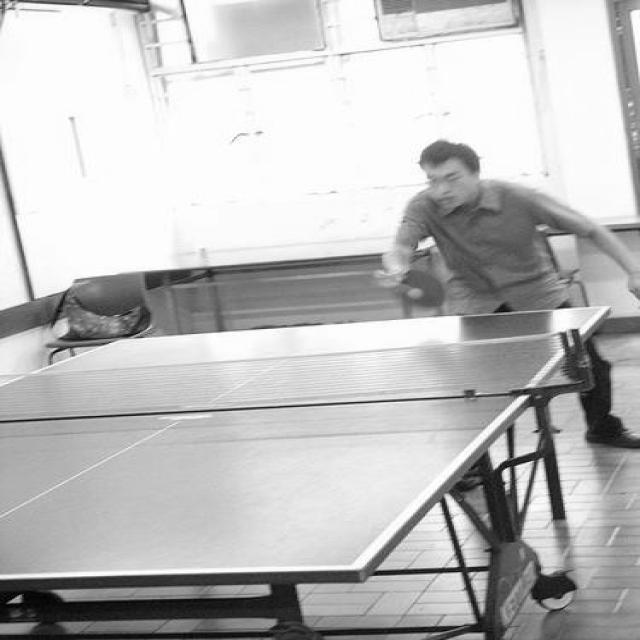ping-pong-ball: (408, 285, 424, 300)
